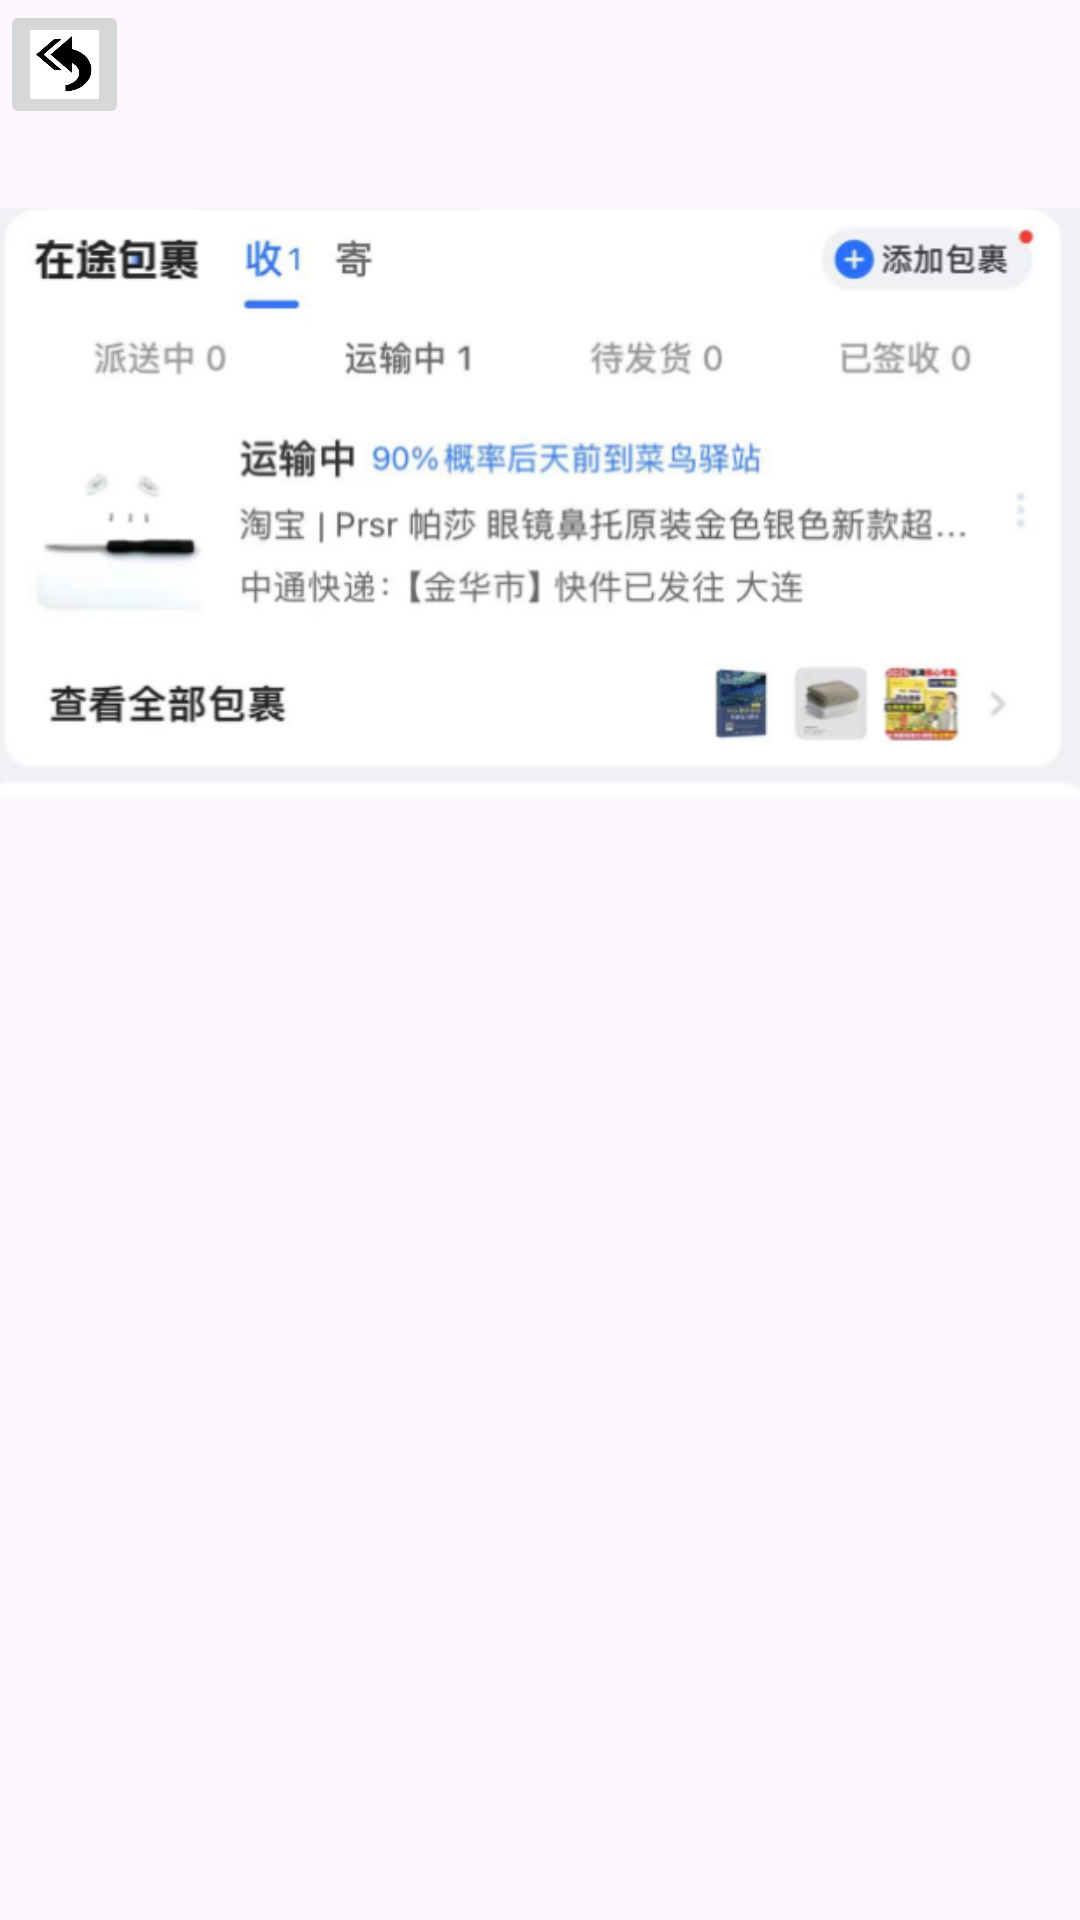

Icons on this 1080px x 1920px Android screen, each with its box as (x1, y1, x2, y2):
back: (12, 18, 117, 111)
